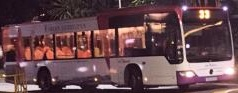bus: (196, 6, 211, 21)
